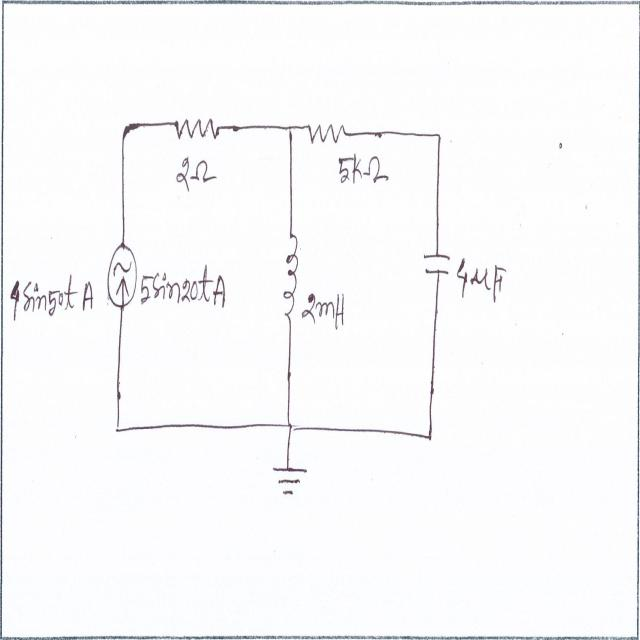capacitor: (421, 245, 453, 279)
current_source: (107, 245, 139, 312)
ground: (272, 458, 310, 506)
inductor: (278, 230, 299, 325)
resistor: (174, 109, 223, 148), (306, 115, 349, 154)
